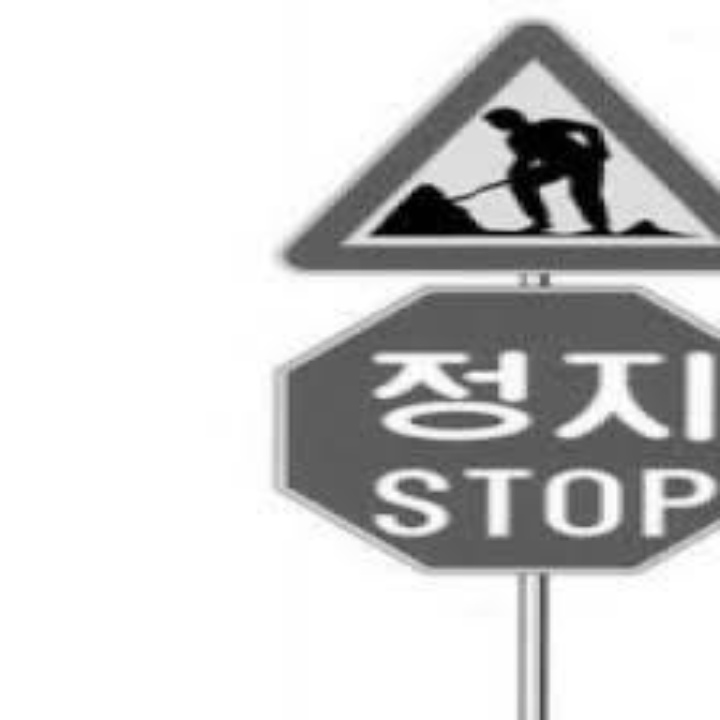const: (372, 30, 714, 243)
